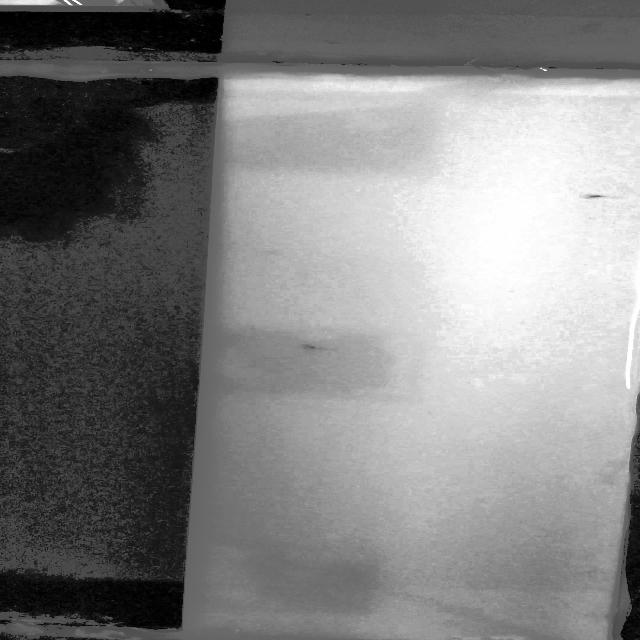shrimp: (294, 338, 331, 360), (566, 188, 618, 202)
